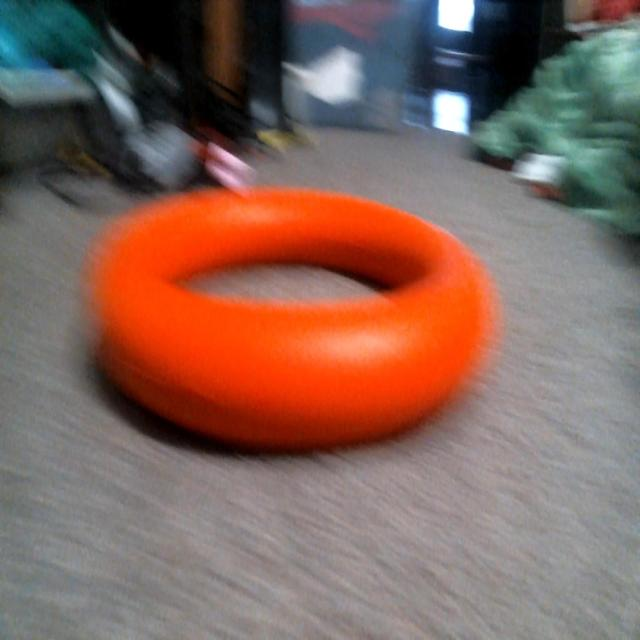note: (90, 184, 493, 461)
